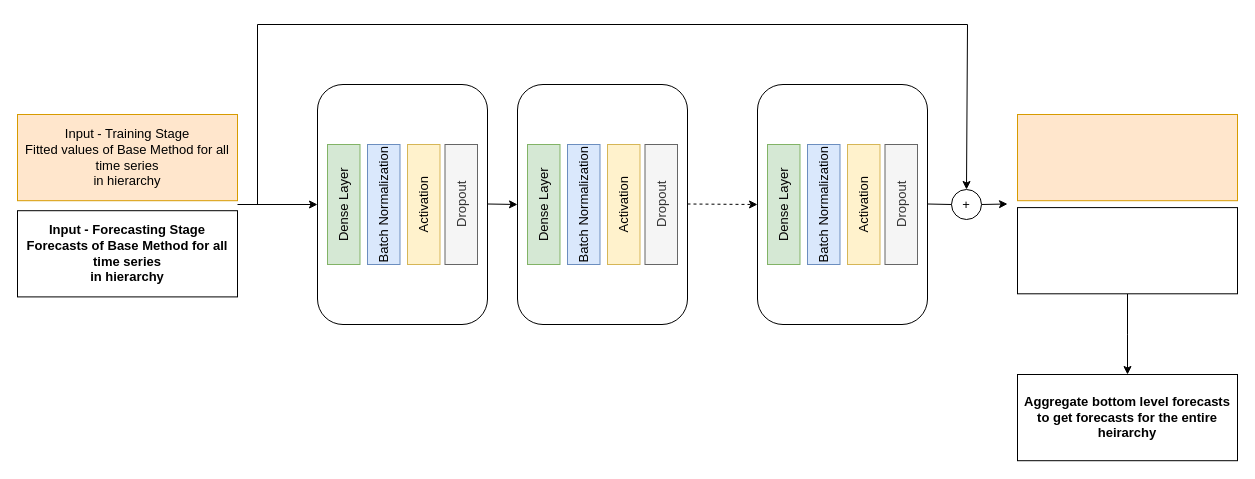
This 1255x479 diagram has some shape labels left out. The shapes that lost their labels are listed below. From the top down, each one's centre as x and y in pixels, then its label:
At pixel 1127 157: "Output - Training Stage Actual bottom level time series values".
At pixel 1127 250: "Output - Forecasting Stage Reconciled bottom level time series forecasts".
